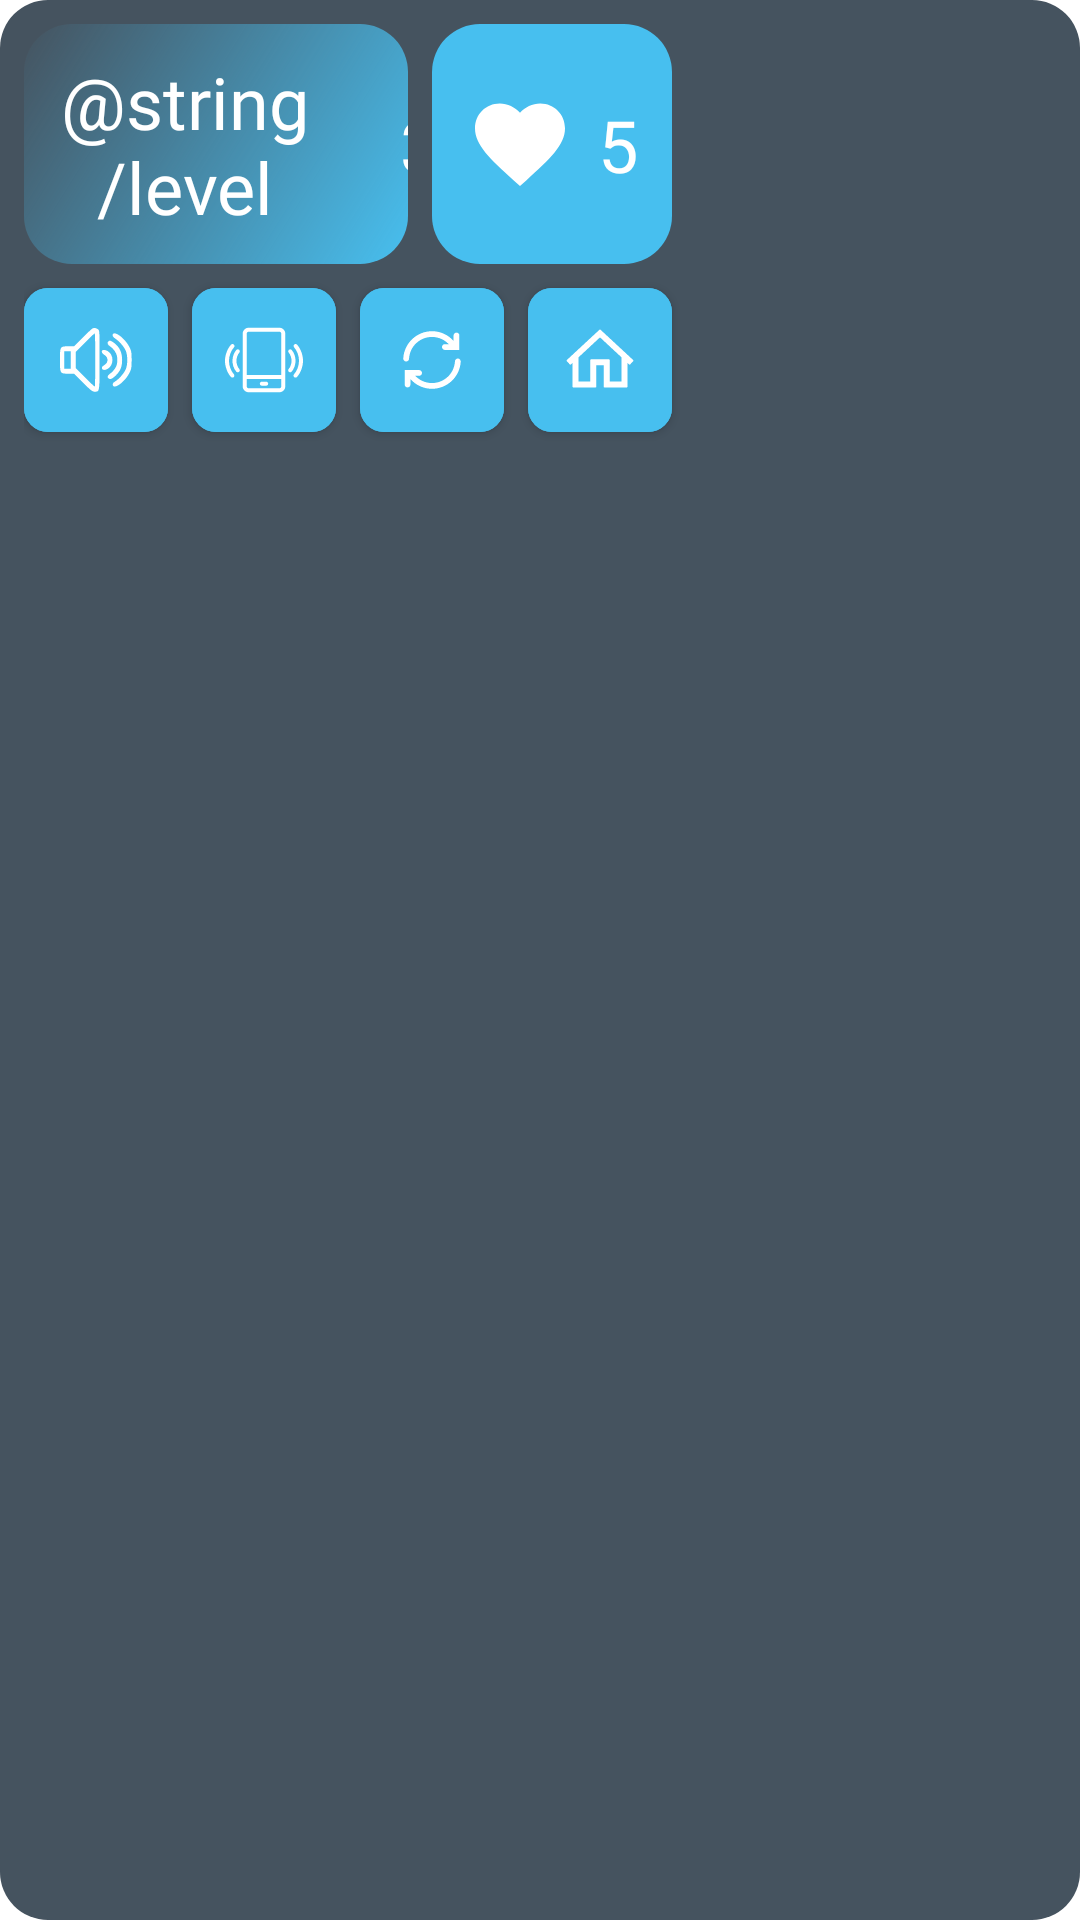

Icon bounding boxes for this 1080x1920 phone screenshot, format {"x1": x1, "y1": y1, "x2": x2, "y2": y2}:
cards heart: {"x1": 475, "y1": 103, "x2": 565, "y2": 186}
home: {"x1": 528, "y1": 288, "x2": 672, "y2": 432}
refresh: {"x1": 360, "y1": 288, "x2": 504, "y2": 432}
sound on: {"x1": 24, "y1": 288, "x2": 168, "y2": 432}
vibrate: {"x1": 192, "y1": 288, "x2": 336, "y2": 432}
